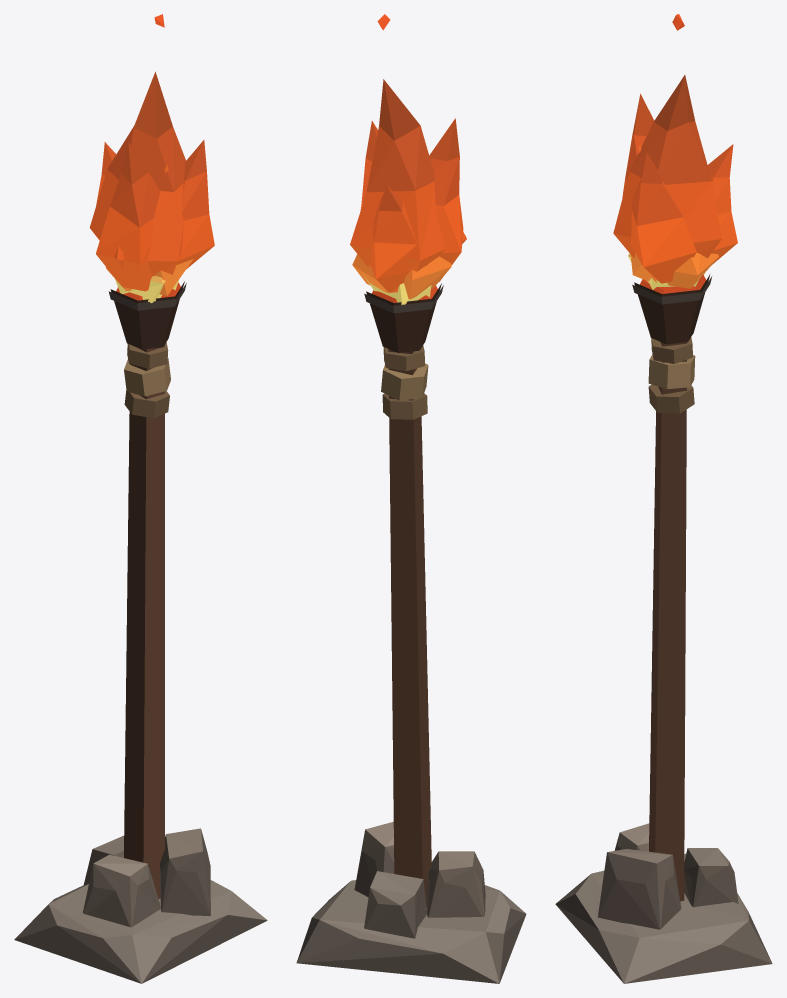
The model's file is tl_fx_torch_pole_v01.glb.
The picture shows the model from 3 angles, left to right: view 1: azimuth 30°, elevation 25°; view 2: azimuth 150°, elevation 25°; view 3: azimuth 270°, elevation 25°; orthographic projection. The views are drawn at different scales.
Parts seen in each view (by area): view 1: tl_fx_torch_pole_v01, flames; view 2: tl_fx_torch_pole_v01, flames; view 3: tl_fx_torch_pole_v01, flames.
Boxes of the visible parts, bbox=[...] form: tl_fx_torch_pole_v01: bbox=[14, 281, 267, 983]; flames: bbox=[89, 14, 214, 303]; tl_fx_torch_pole_v01: bbox=[296, 283, 526, 983]; flames: bbox=[350, 14, 466, 304]; tl_fx_torch_pole_v01: bbox=[555, 274, 772, 983]; flames: bbox=[613, 14, 737, 289].
Bounding box in the file's own units: 0.7853 × 3.24 × 0.6861.
